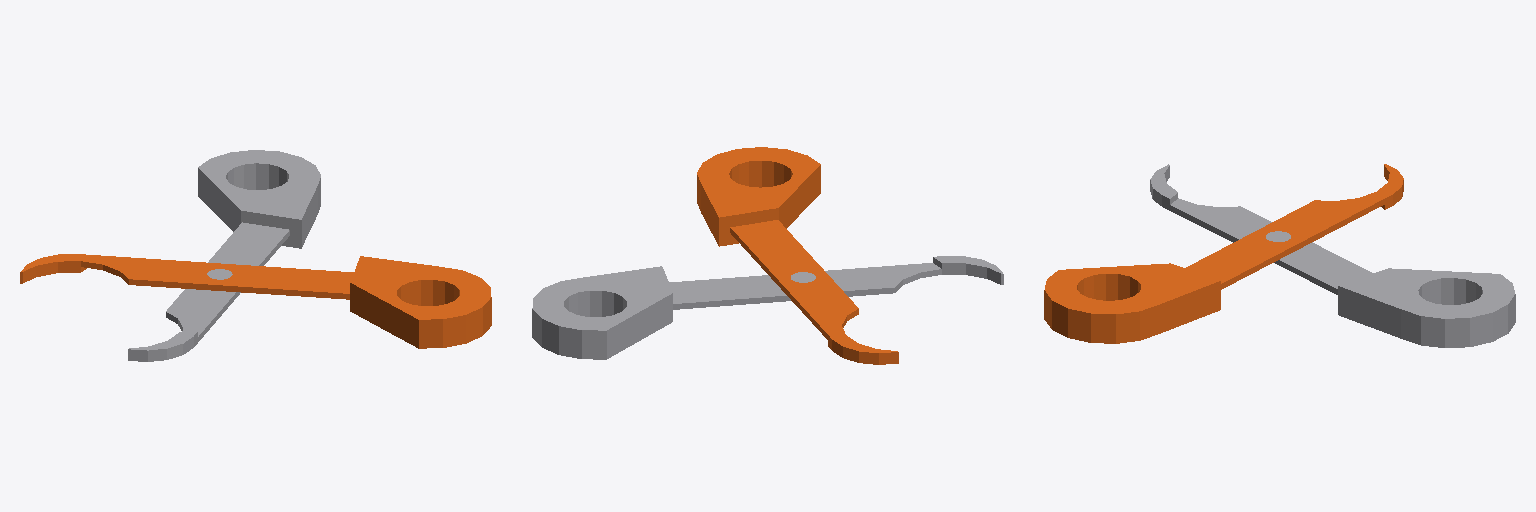
The robot description file, URDF, robot "scissor_11100":
<?xml version="1.0"?>
<robot name="scissor_11100">
  <!-- Meshes come from the dataset *_rotate exports, which share the joint frame. -->
  <link name="base_link">
    <visual>
      <origin xyz="0 0 0" rpy="0 0 0"/>
      <geometry>
        <mesh filename="meshes/scissor_11100_base.obj"/>
      </geometry>
      <material name="steel_grey">
        <color rgba="0.70 0.70 0.72 1.0"/>
      </material>
    </visual>
    <collision>
      <origin xyz="0 0 0" rpy="0 0 0"/>
      <geometry>
        <mesh filename="meshes/scissor_11100_base.obj"/>
      </geometry>
    </collision>
    <inertial>
      <origin xyz="-0.221462642 0.131165568 -0.009076123" rpy="0 0 0"/>
      <mass value="0.055479452"/>
      <inertia ixx="0.008045061" ixy="0.000000000" ixz="0.000000000" iyy="0.008694374" iyz="0.000000000" izz="0.016612930"/>
    </inertial>
  </link>

  <link name="moving_link">
    <visual>
      <origin xyz="0 0 0" rpy="0 0 0"/>
      <geometry>
        <mesh filename="meshes/scissor_11100_moving.obj"/>
      </geometry>
      <material name="handle_orange">
        <color rgba="0.93 0.47 0.16 1.0"/>
      </material>
    </visual>
    <collision>
      <origin xyz="0 0 0" rpy="0 0 0"/>
      <geometry>
        <mesh filename="meshes/scissor_11100_moving.obj"/>
      </geometry>
    </collision>
    <inertial>
      <origin xyz="0.112864997 -0.156619577 -0.014202970" rpy="0 0 0"/>
      <mass value="0.044520548"/>
      <inertia ixx="0.006258346" ixy="0.000000000" ixz="0.000000000" iyy="0.007173916" iyz="0.000000000" izz="0.013330745"/>
    </inertial>
  </link>

  <joint name="scissor_hinge" type="revolute">
    <origin xyz="-0.309408835 0.000619823 0.021692000" rpy="0 0 0"/>
    <parent link="base_link"/>
    <child link="moving_link"/>
    <axis xyz="0.000000000 0.000000000 1.000000000"/>
    <limit lower="0.000000000" upper="0.698131701" effort="5.0" velocity="4.0"/>
    <dynamics damping="0.05" friction="0.02"/>
  </joint>
</robot>

--- What the picture shows (computed from the rendered views, not written in the file) ---
Views: 3 orthographic renders of the robot side by side, from view 1: azimuth 30°, elevation 25°; view 2: azimuth 150°, elevation 25°; view 3: azimuth 270°, elevation 25°.
Robot: scissor_11100 — 2 links, 1 joints (1 revolute); root link base_link; default pose: every joint at zero.
Links seen in each view (by area): view 1: moving_link, base_link; view 2: base_link, moving_link; view 3: moving_link, base_link.
Boxes of the visible links, left/top/right/bottom form: moving_link: left=20, top=254, right=491, bottom=348; base_link: left=128, top=150, right=320, bottom=361; base_link: left=532, top=256, right=1003, bottom=359; moving_link: left=697, top=147, right=898, bottom=364; moving_link: left=1044, top=164, right=1403, bottom=343; base_link: left=1150, top=164, right=1515, bottom=347.
Size in the robot's own frame: 1.39 by 1.7 by 0.1404 metres.
Meshes: 2 distinct files referenced, 2 mesh visuals loaded (2 OBJ).
